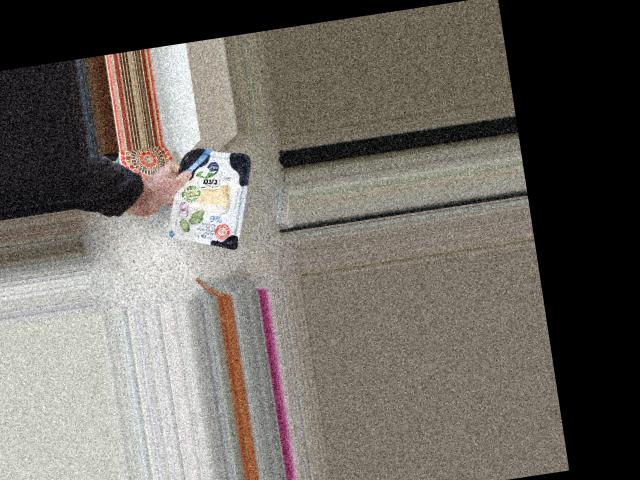cheese: (158, 140, 264, 258)
